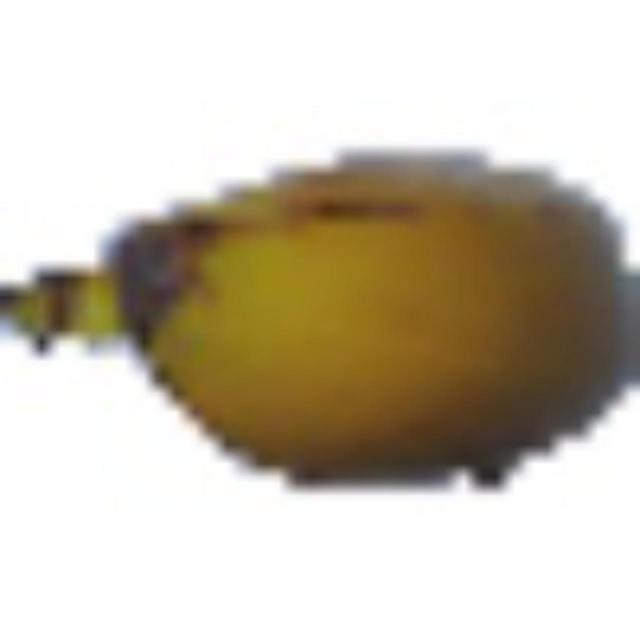banana: (0, 160, 634, 486)
